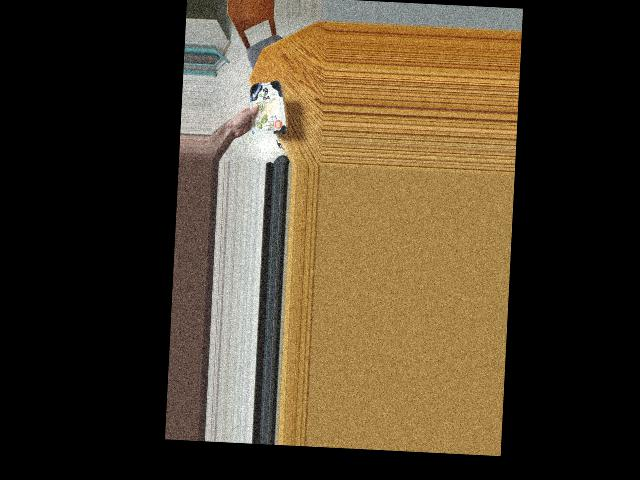cheese: (249, 80, 282, 131)
